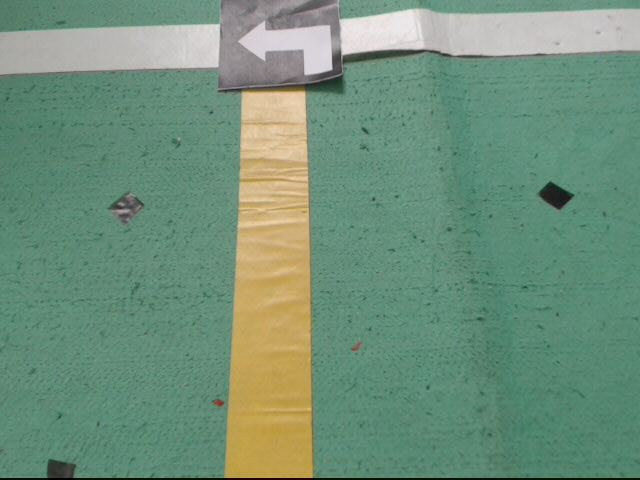left: (214, 0, 344, 90)
